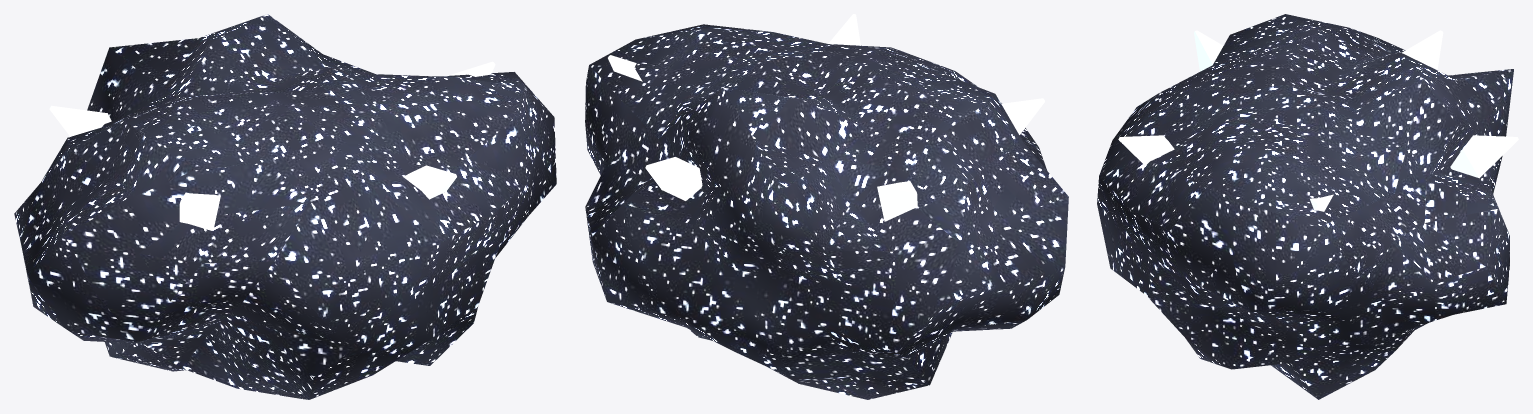
Rendered from star_iron.glb.
3 renders of one model, left to right at view 1: azimuth 30°, elevation 25°; view 2: azimuth 150°, elevation 25°; view 3: azimuth 270°, elevation 25°, orthographic. The views are drawn at different scales.
Parts seen in each view (by area): view 1: StarIron, StarPoints; view 2: StarIron, StarPoints; view 3: StarIron, StarPoints.
Part boxes in pixels (box(x1,y1,x2,y2)): StarIron: box(14, 14, 556, 399); StarPoints: box(49, 20, 495, 230); StarIron: box(585, 24, 1068, 399); StarPoints: box(608, 14, 1044, 221); StarIron: box(1097, 14, 1513, 399); StarPoints: box(1118, 30, 1518, 211).
Bounding box in the file's own units: 0.2704 × 0.1571 × 0.2073.
Materials: 2 (1 with a texture image).
